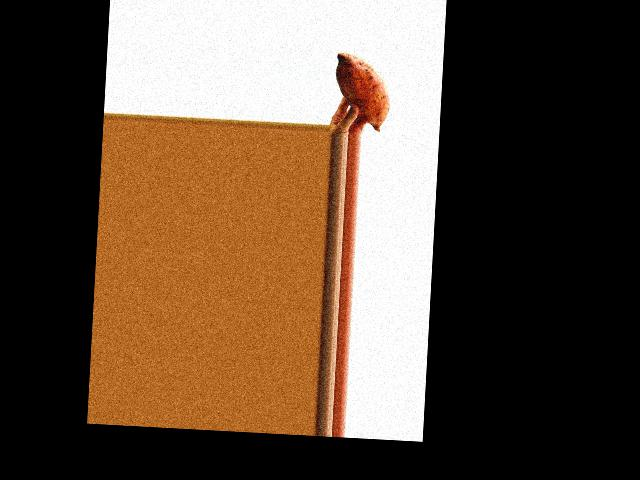sweet_potato: (330, 50, 397, 129)
